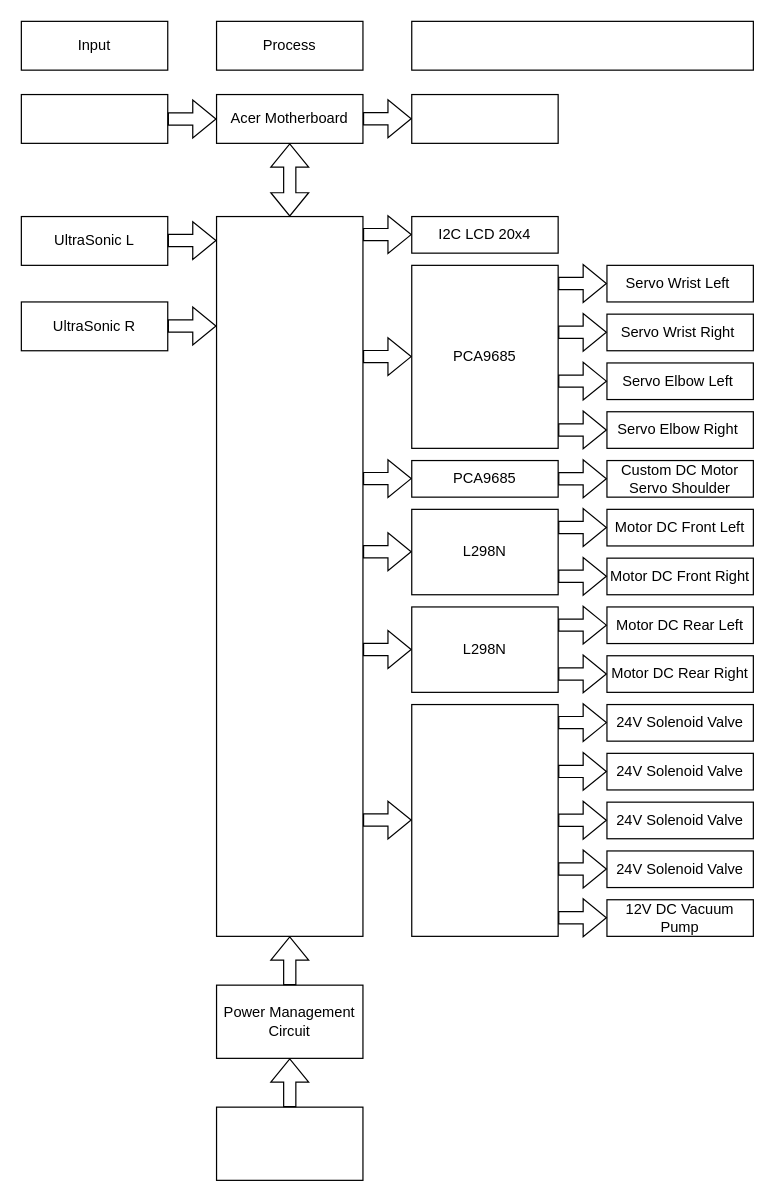
This 775x1202 diagram has some shape labels left out. The centre of each missing label's shape, as x and y in pixels:
"4.3 Inch TFT LCD" goes at point 484,118.
"Arduino Mega 2560" goes at point 289,575.
"Battery LiFePO4 6Ah" goes at point 289,1143.
"Motor and Valve Relay Control Logic Circuit" goes at point 484,819.
"Output" goes at point 582,45.
"Webcam" goes at point 94,118.
